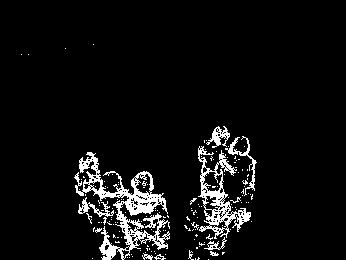person: (184, 168, 237, 260), (126, 169, 169, 260), (72, 148, 105, 260), (95, 168, 135, 260), (214, 134, 258, 200), (197, 124, 233, 195)
